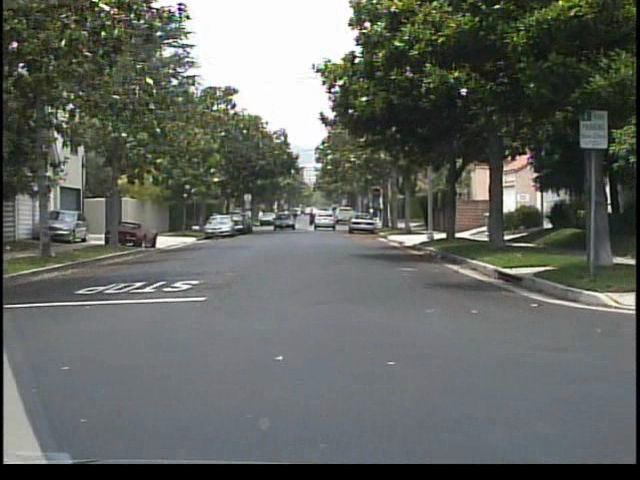person: (211, 206, 224, 230)
